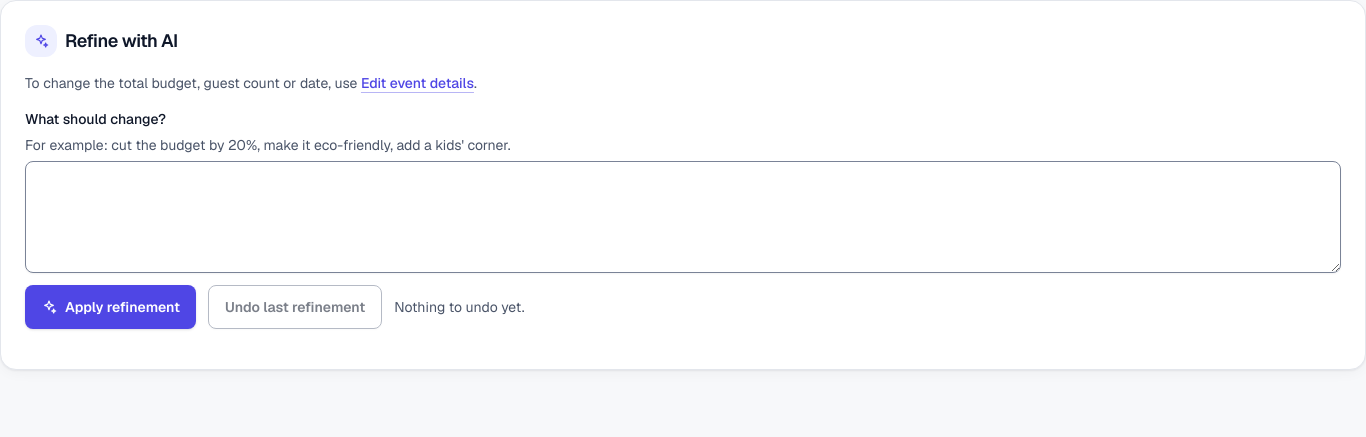
it: RefinePanel › shows the API error in the status region, not as a field error
The width and height of the screenshot is (1366, 437).
Type "cut costs" into the text box labelled "What should change?" at (683,217), box [25,161,1341,273]
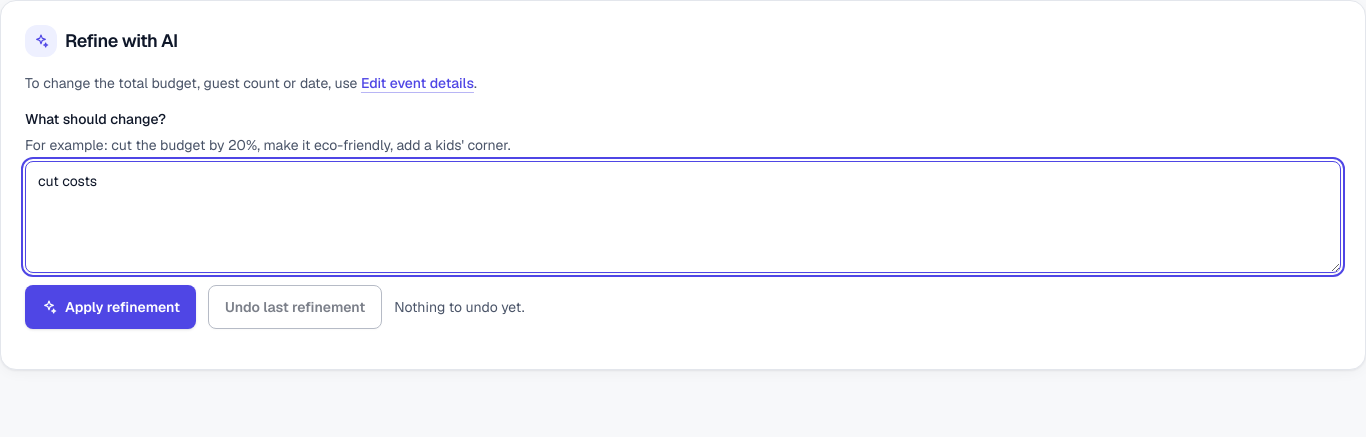
Click the button "Apply refinement" at (110,307), box [25,285,196,329]
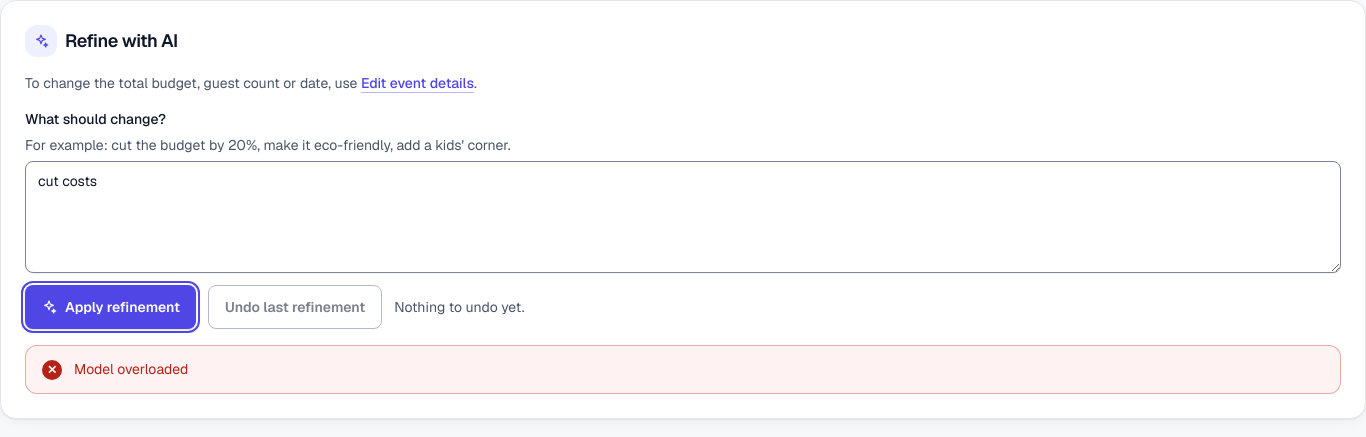
Expected: the message shows "Model overloaded", [74,360,188,378]
